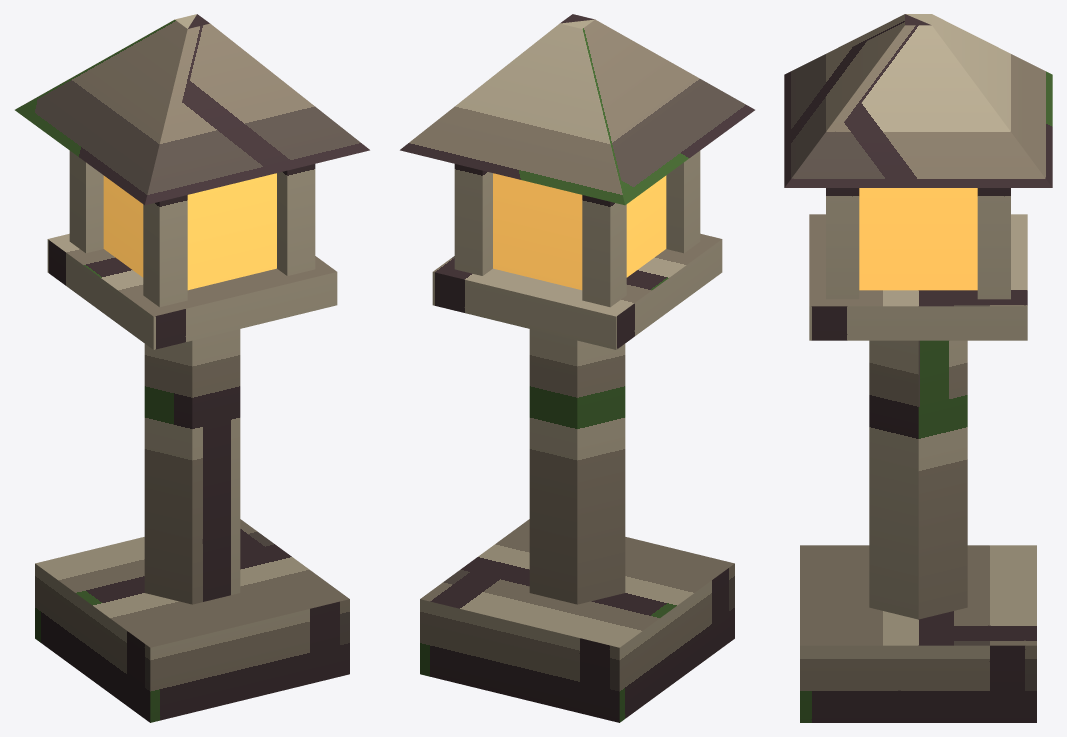
File: stone_lantern.glb
The picture shows the model from 3 angles, left to right: view 1: azimuth 30°, elevation 25°; view 2: azimuth 150°, elevation 25°; view 3: azimuth 270°, elevation 25°; orthographic projection. The views are drawn at different scales.
Visible parts, largest first — view 1: stone_lantern; view 2: stone_lantern; view 3: stone_lantern.
Boxes of the visible parts, bbox=[...] form: stone_lantern: bbox=[15, 14, 369, 722]; stone_lantern: bbox=[400, 14, 754, 722]; stone_lantern: bbox=[784, 14, 1052, 722].
Size of the model in its own units: 0.5657 by 1.52 by 0.5657.
3 materials, 1 textured.
